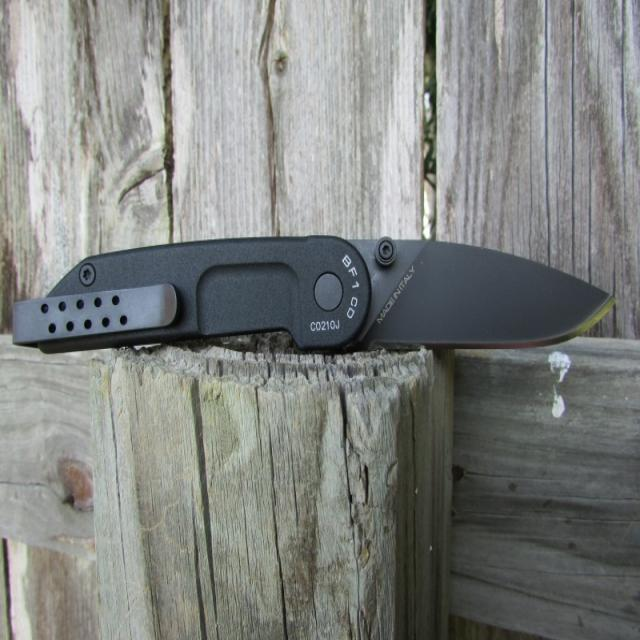knife: (6, 237, 618, 360)
